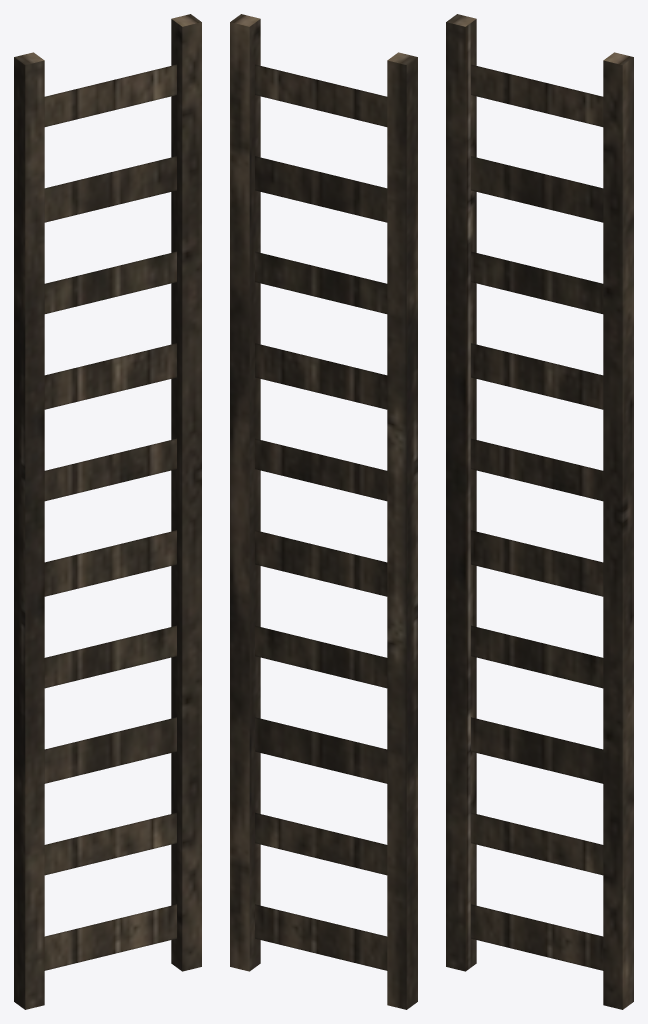
File: Ladder.fbx
3 views of the same model, side by side, from view 1: azimuth 30°, elevation 25°; view 2: azimuth 150°, elevation 25°; view 3: azimuth 330°, elevation 25° (orthographic).
Visible parts, largest first — view 1: Cube; view 2: Cube; view 3: Cube.
Boxes of the visible parts, box(x1,y1,x2,y2) form: Cube: box(14, 14, 201, 1009); Cube: box(230, 14, 417, 1009); Cube: box(446, 14, 633, 1009).
Bounding box in the file's own units: 63.81 × 326 × 6.94.
1 material, 1 textured.
